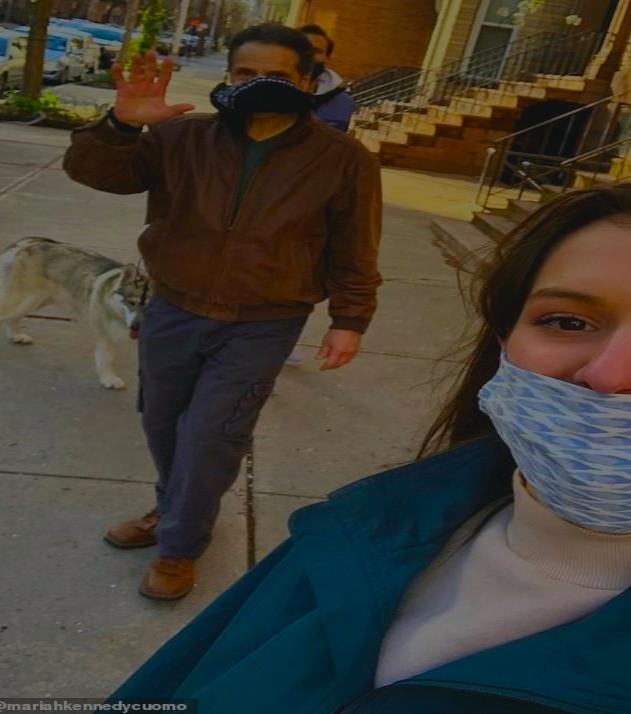mask_weared_incorrect: (473, 177, 631, 532)
